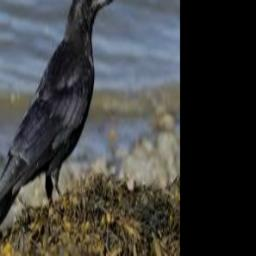Crow: (0, 0, 113, 233)
